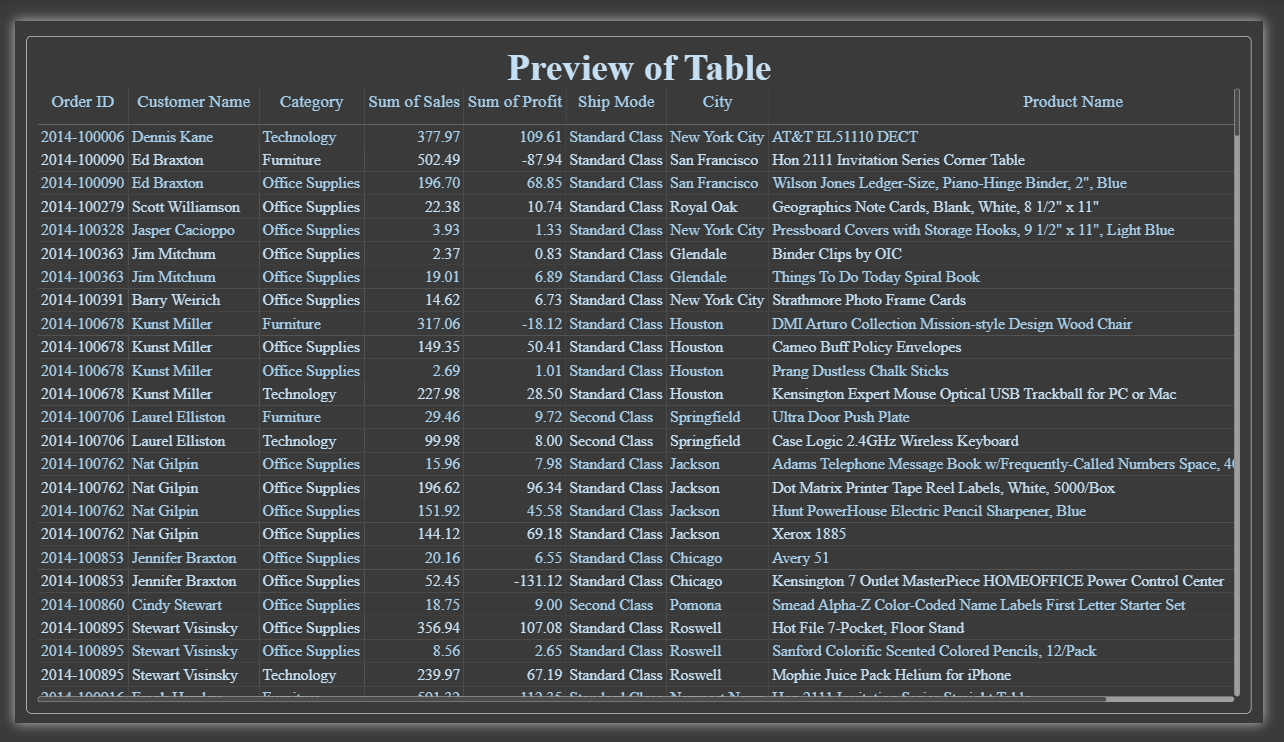

Layout of this report page (visuals, bound fields, positions):
{"tool":"powerbi","page":{"name":"Table","canvas":[1920,1080],"ordinal":2},"visuals":[{"type":"tableEx","title":"Preview of Table","fields":{"Values":["Sample_Superstore.Order ID","Sample_Superstore.Customer Name","Sample_Superstore.Category","Sum(Sample_Superstore.Sales)","Sum(Sample_Superstore.Profit)","Sample_Superstore.Ship Mode","Sample_Superstore.City","Sample_Superstore.Product Name"]},"box":[17.3,23.1,1884.6,1042.3],"z":0}]}

Visuals, with their boxes in screenshot pixels (x1, y1, x2, y2), scaled from the page's 1920x1080 canvas onto the 1284x742 screenshot:
"Preview of Table" tableEx: detection(12, 16, 1272, 732)
